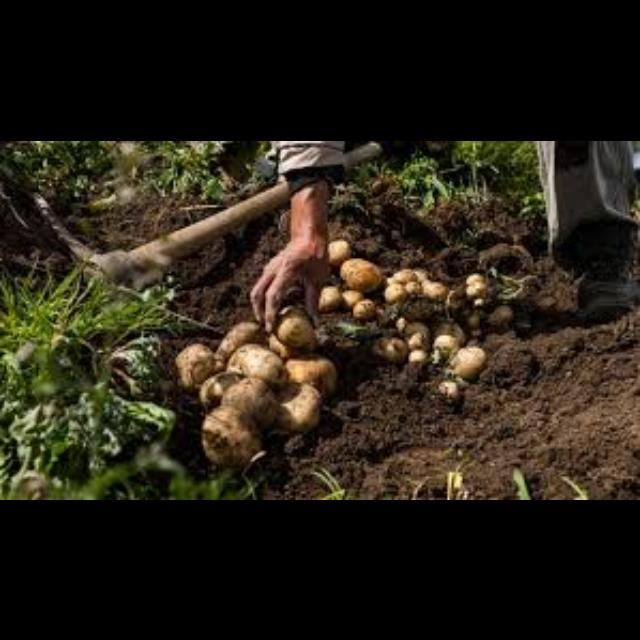Diseased-fungal potato: (238, 348, 294, 390), (274, 300, 318, 348), (338, 255, 382, 291)
